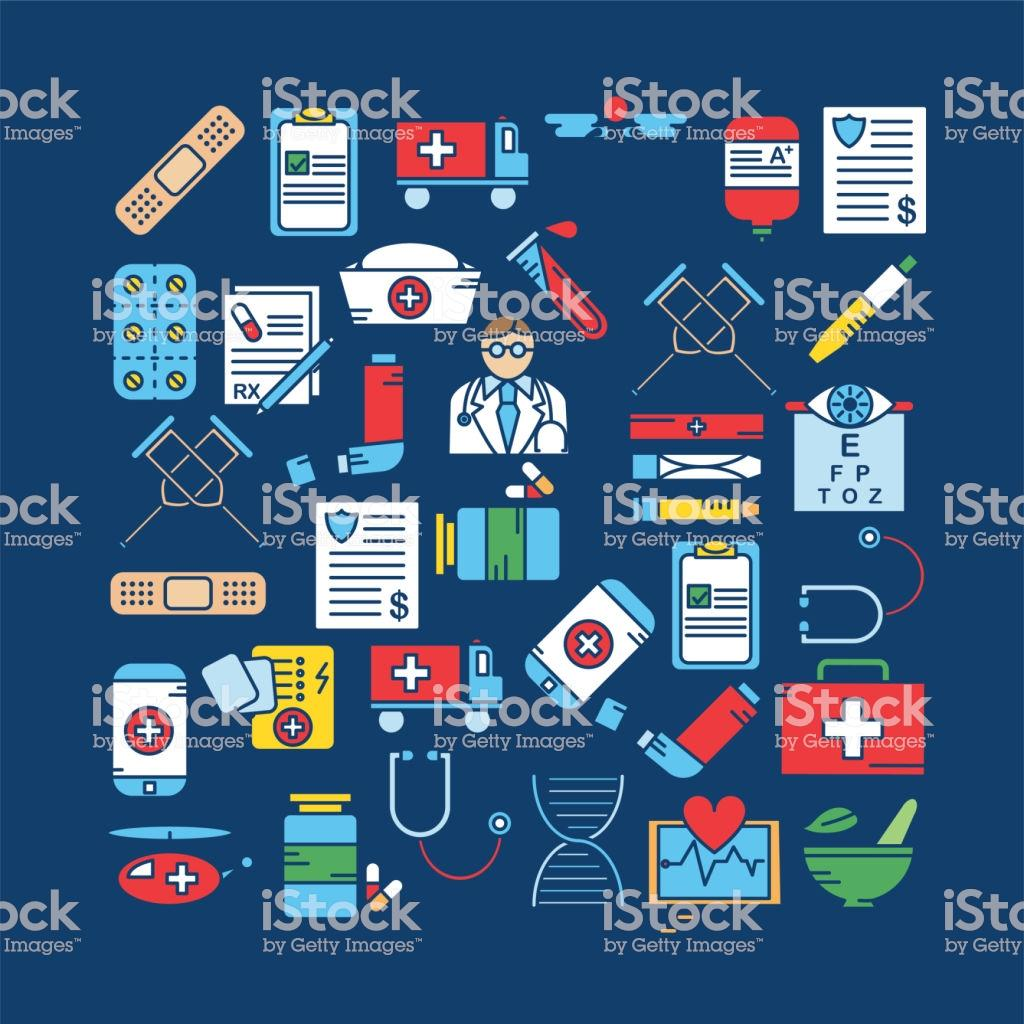bandage: (119, 102, 244, 245), (113, 568, 274, 618)
